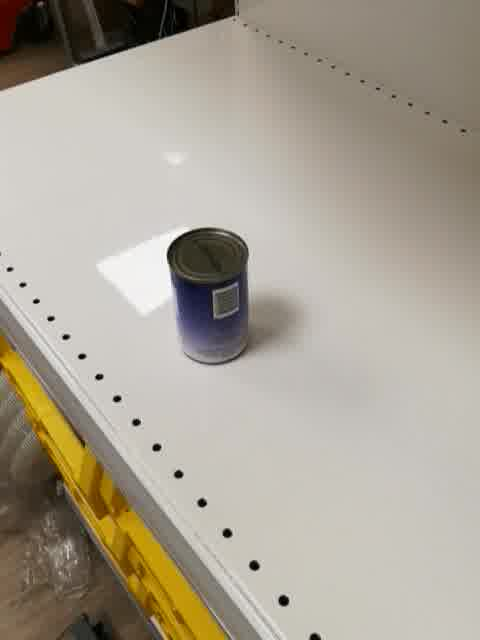sardine: (165, 226, 253, 366)
